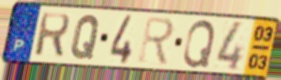4: (215, 20, 245, 73), (108, 13, 134, 67)
Q: (181, 18, 217, 69), (69, 13, 102, 61)
R: (136, 15, 176, 68), (33, 11, 72, 60)
